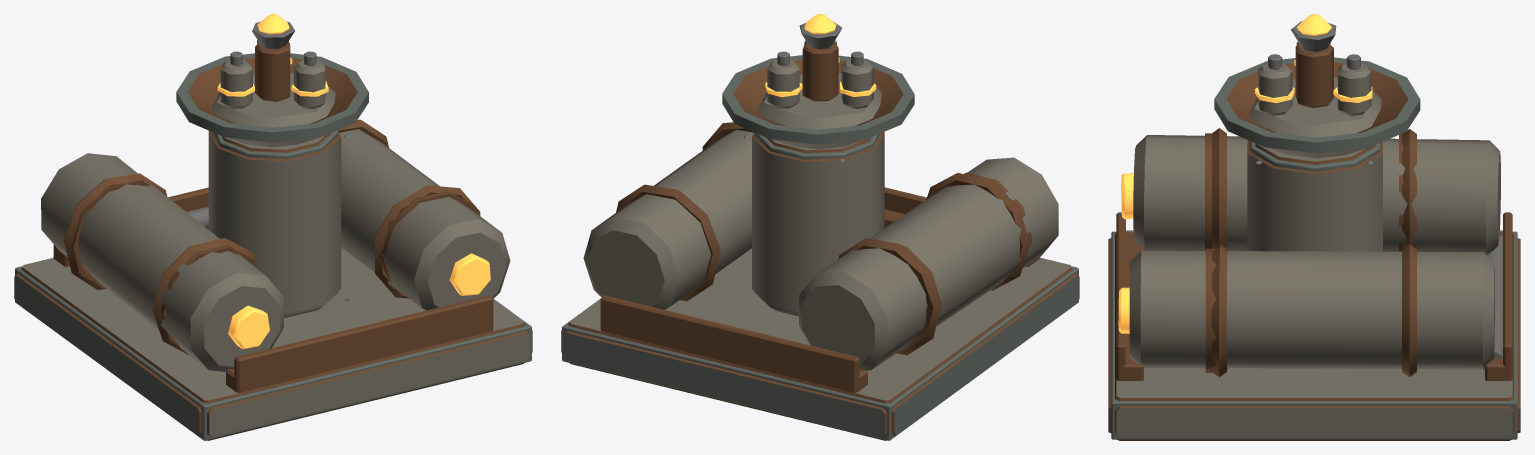
File: R4X_BurnTrapDeployer.fbx
3 renders of one model, left to right at view 1: azimuth 30°, elevation 25°; view 2: azimuth 150°, elevation 25°; view 3: azimuth 270°, elevation 25°, orthographic. The views are drawn at different scales.
Visible parts, largest first — view 1: R4X_BurnTrapDeployer_Body, R4X_BurnTrapDeployer_Payload; view 2: R4X_BurnTrapDeployer_Body, R4X_BurnTrapDeployer_Payload; view 3: R4X_BurnTrapDeployer_Body, R4X_BurnTrapDeployer_Payload.
Boxes of the visible parts, x1,y1,x2,y2 form: R4X_BurnTrapDeployer_Body: (14,53,532,440); R4X_BurnTrapDeployer_Payload: (211,14,335,127); R4X_BurnTrapDeployer_Body: (561,55,1079,440); R4X_BurnTrapDeployer_Payload: (757,14,881,129); R4X_BurnTrapDeployer_Body: (1108,57,1520,440); R4X_BurnTrapDeployer_Payload: (1248,14,1381,137).
Size of the model in its own units: 0.52 by 0.476 by 0.52.
